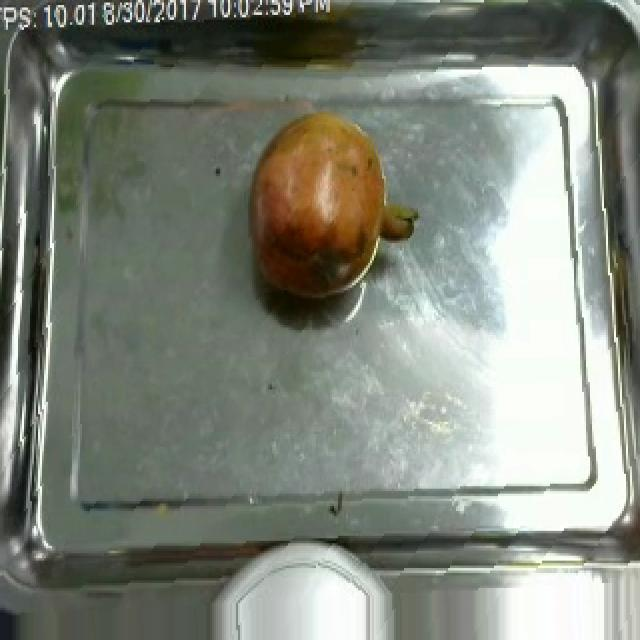fruit: (240, 99, 432, 313)
